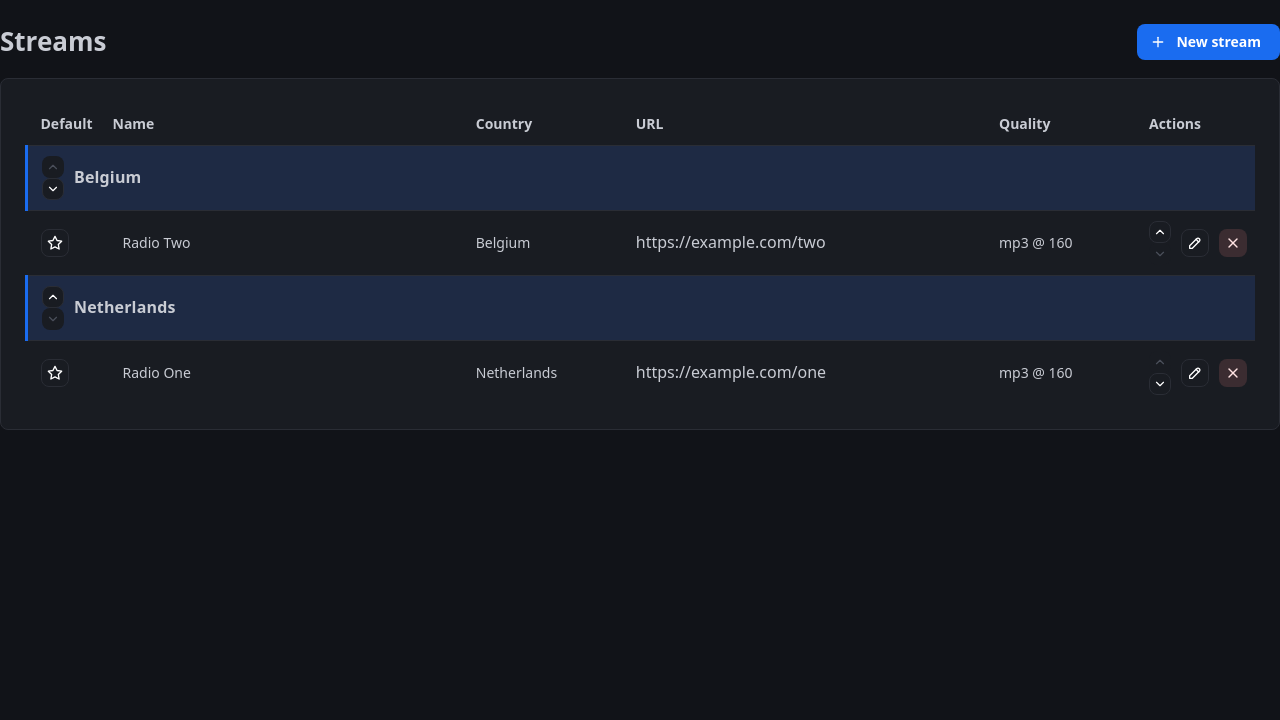
Test: StreamTable › the delete confirm renders in a dialog with Confirm disabled on open
Expected: the text "Radio One" is shown, 98,340 -> 462,405
Click the button named "Delete Radio One" at point(1233, 373), box 1219,359 -> 1247,387
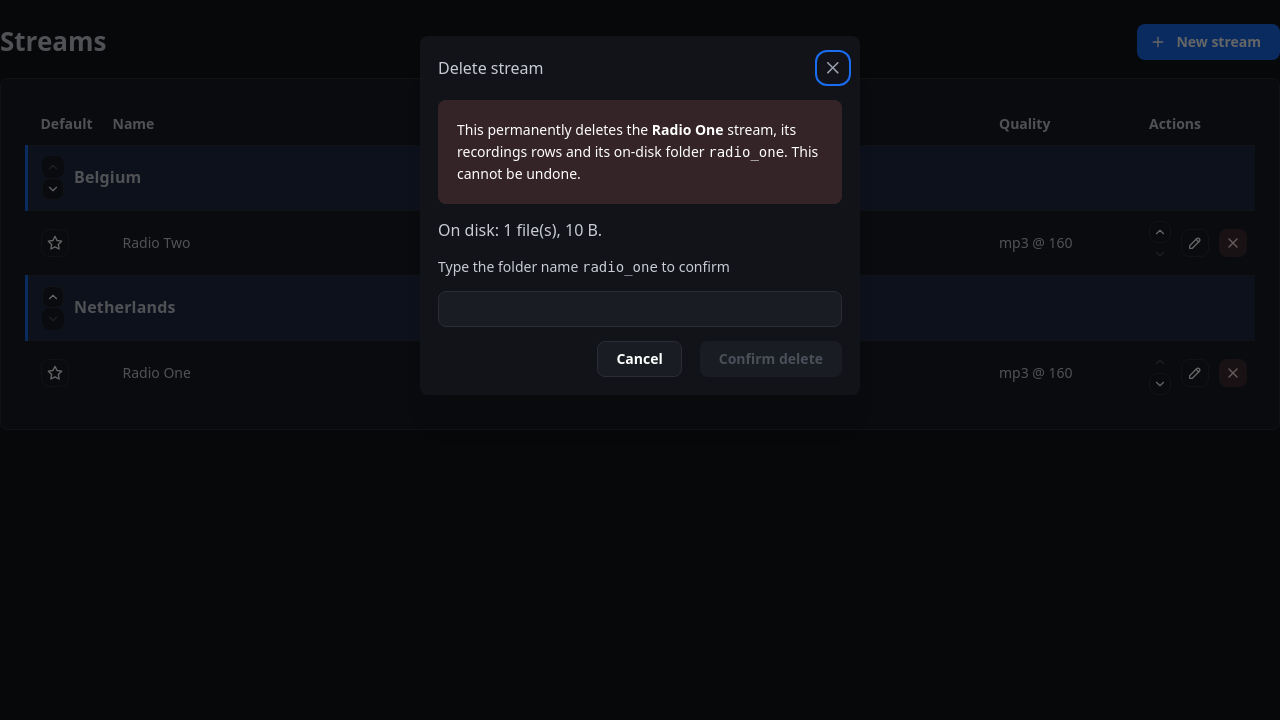
Expected: the dialog is shown, 420,36 -> 860,395
Expected: the button "Confirm delete" is disabled, 700,341 -> 842,377
